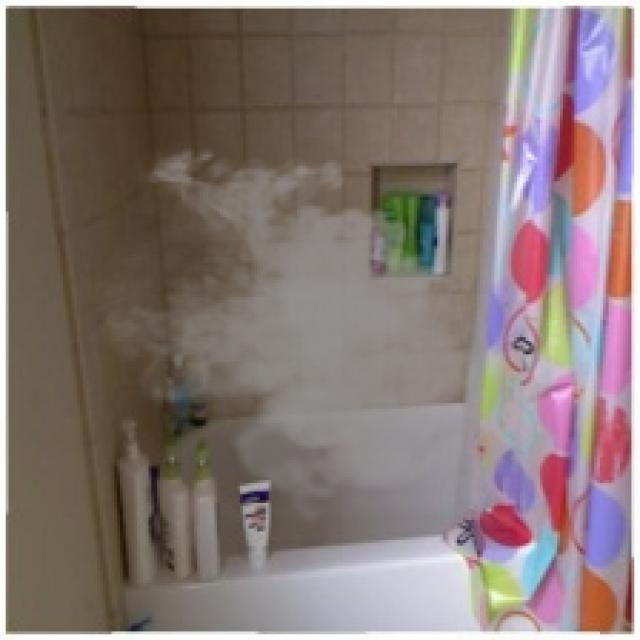Smoke: (80, 137, 494, 526)
